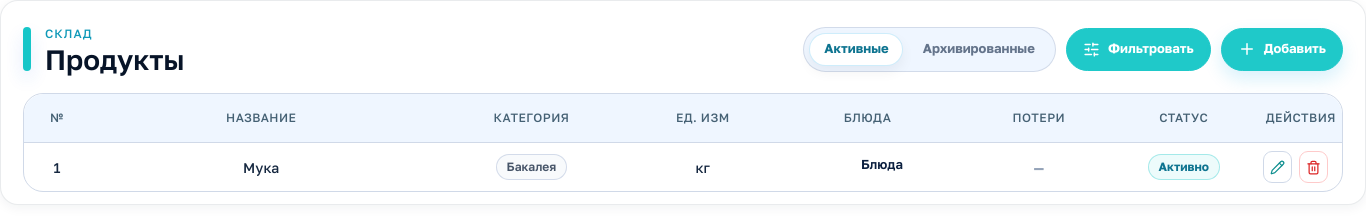
Test: RAW V2 Dishes visual family › 4. real active/archived filtering from canonical is_active
The image size is (1366, 222).
Check: the text "Мука" is shown, box [243, 158, 279, 176]
Click the tab "Архивированные": (979, 49) [908, 32, 1050, 66]
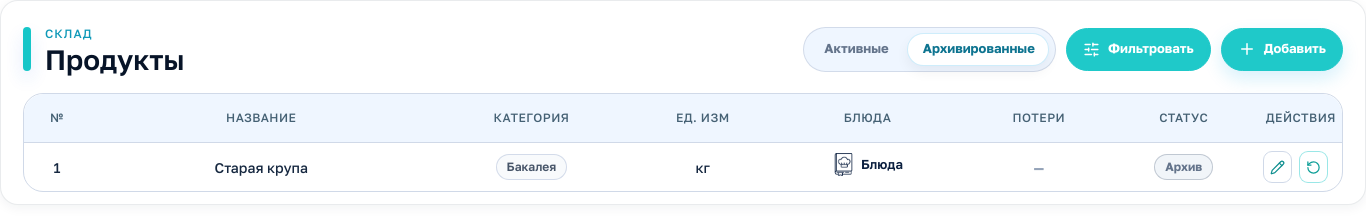
Check: the table with class "raw-grid-table" shows "Старая крупа", box [215, 158, 308, 176]
Check: the text with class "raw-grid-table" no longer shows "Мука"
